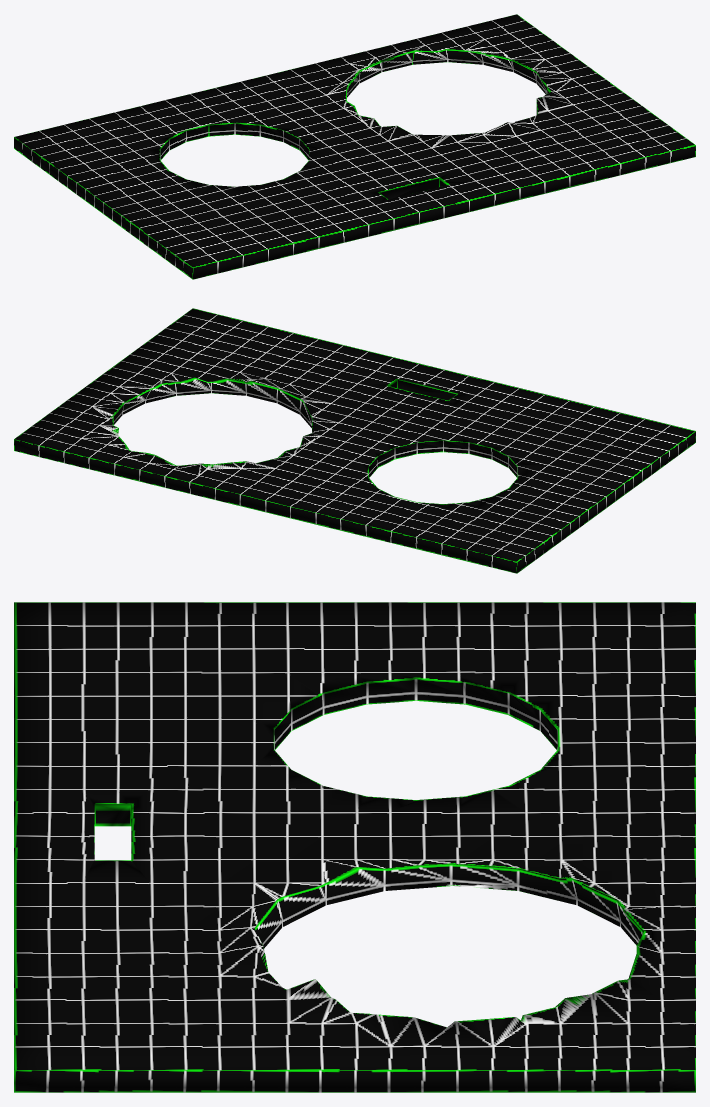
File: main.obj
3 views of the same model, one above another, from view 1: azimuth 30°, elevation 25°; view 2: azimuth 150°, elevation 25°; view 3: azimuth 270°, elevation 25° (orthographic). The views are drawn at different scales.
Parts seen in each view (by area): view 1: Box005; view 2: Box005; view 3: Box005.
Boxes of the visible parts, x1,y1,x2,y2 form: Box005: (14,14,695,279); Box005: (14,308,695,573); Box005: (14,602,695,1092).
Size of the model in its own units: 49.31 by 1.92 by 30.37.
